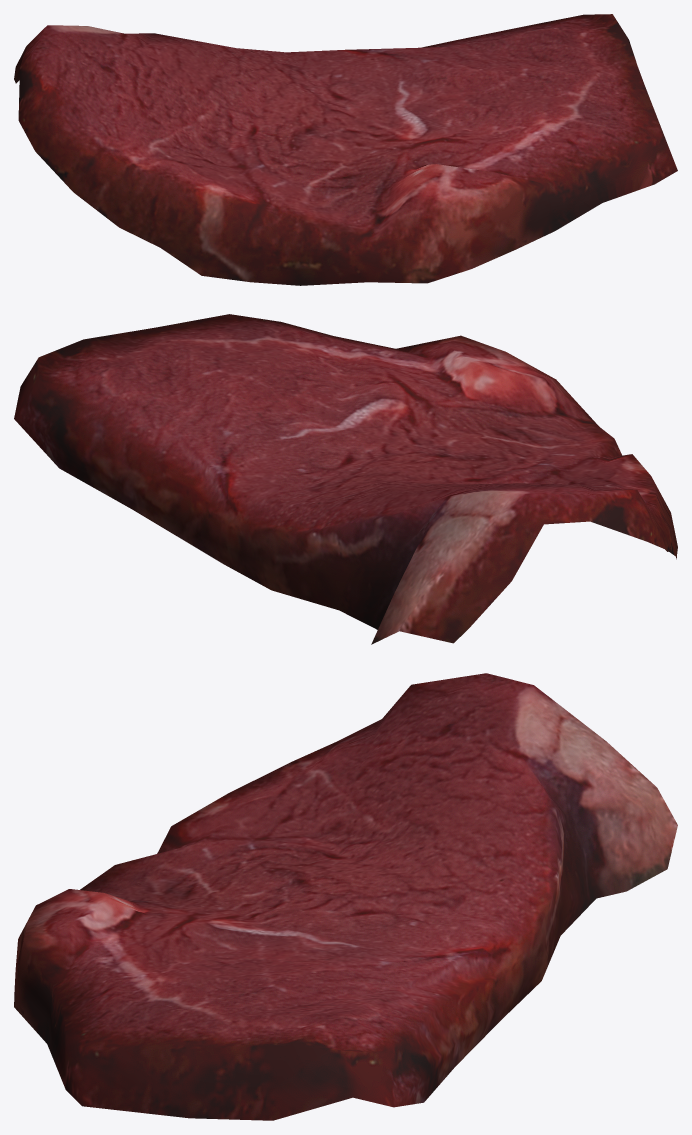
Rendered from bistec de res.glb.
3 views of the same model, one above another, from view 1: azimuth 30°, elevation 25°; view 2: azimuth 150°, elevation 25°; view 3: azimuth 270°, elevation 25° (orthographic). The views are drawn at different scales.
Visible parts, largest first — view 1: Skin_ZSphere5; view 2: Skin_ZSphere5; view 3: Skin_ZSphere5.
Boxes of the visible parts, left/top/right/bottom form: Skin_ZSphere5: left=14, top=14, right=677, bottom=285; Skin_ZSphere5: left=14, top=314, right=677, bottom=644; Skin_ZSphere5: left=14, top=673, right=677, bottom=1120.
Bounding box in the file's own units: 3.71 × 0.9702 × 3.
1 material, 1 textured.
